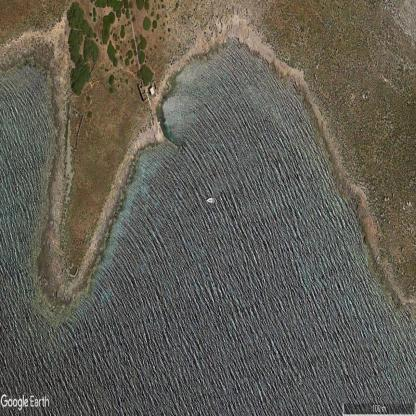ship: (207, 197, 214, 203)
